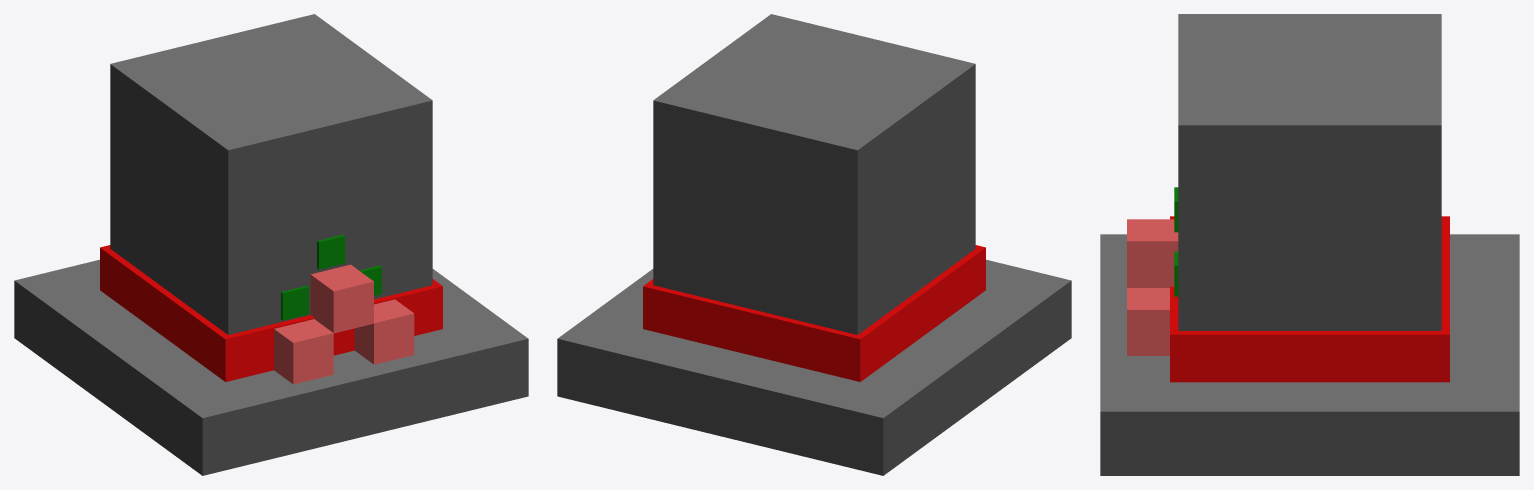
Rendered from 028 Santa_het.fbx.
3 views of the same model, side by side, from view 1: azimuth 30°, elevation 25°; view 2: azimuth 150°, elevation 25°; view 3: azimuth 270°, elevation 25° (orthographic). The views are drawn at different scales.
Parts seen in each view (by area): view 1: Lowpoly_Christmas_Pack_028:pCube8; view 2: Lowpoly_Christmas_Pack_028:pCube8; view 3: Lowpoly_Christmas_Pack_028:pCube8.
Part boxes in pixels (x1=…): Lowpoly_Christmas_Pack_028:pCube8: x1=14, y1=14, x2=528, y2=475; Lowpoly_Christmas_Pack_028:pCube8: x1=557, y1=14, x2=1071, y2=475; Lowpoly_Christmas_Pack_028:pCube8: x1=1100, y1=14, x2=1519, y2=475.
Size of the model in its own units: 1 by 0.836 by 1.
